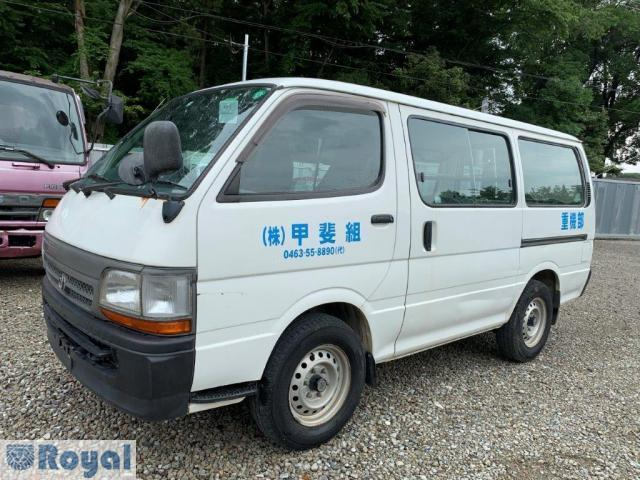Van: (43, 79, 596, 409)
